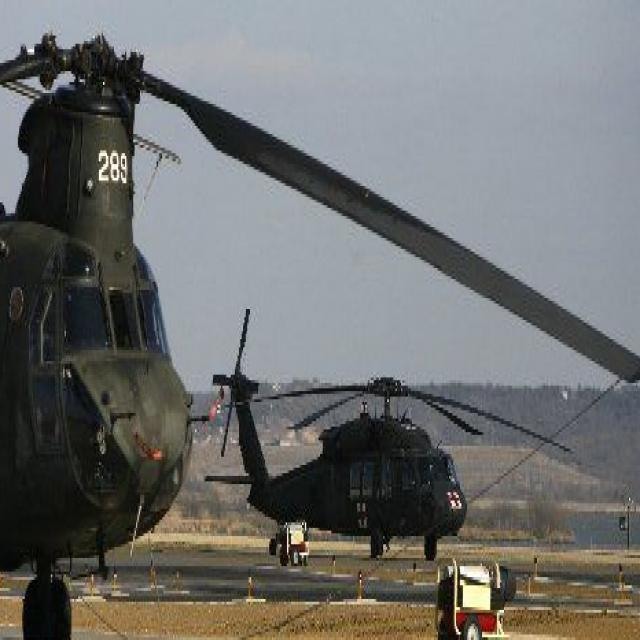helicopter: (1, 31, 640, 640), (210, 307, 575, 570)
